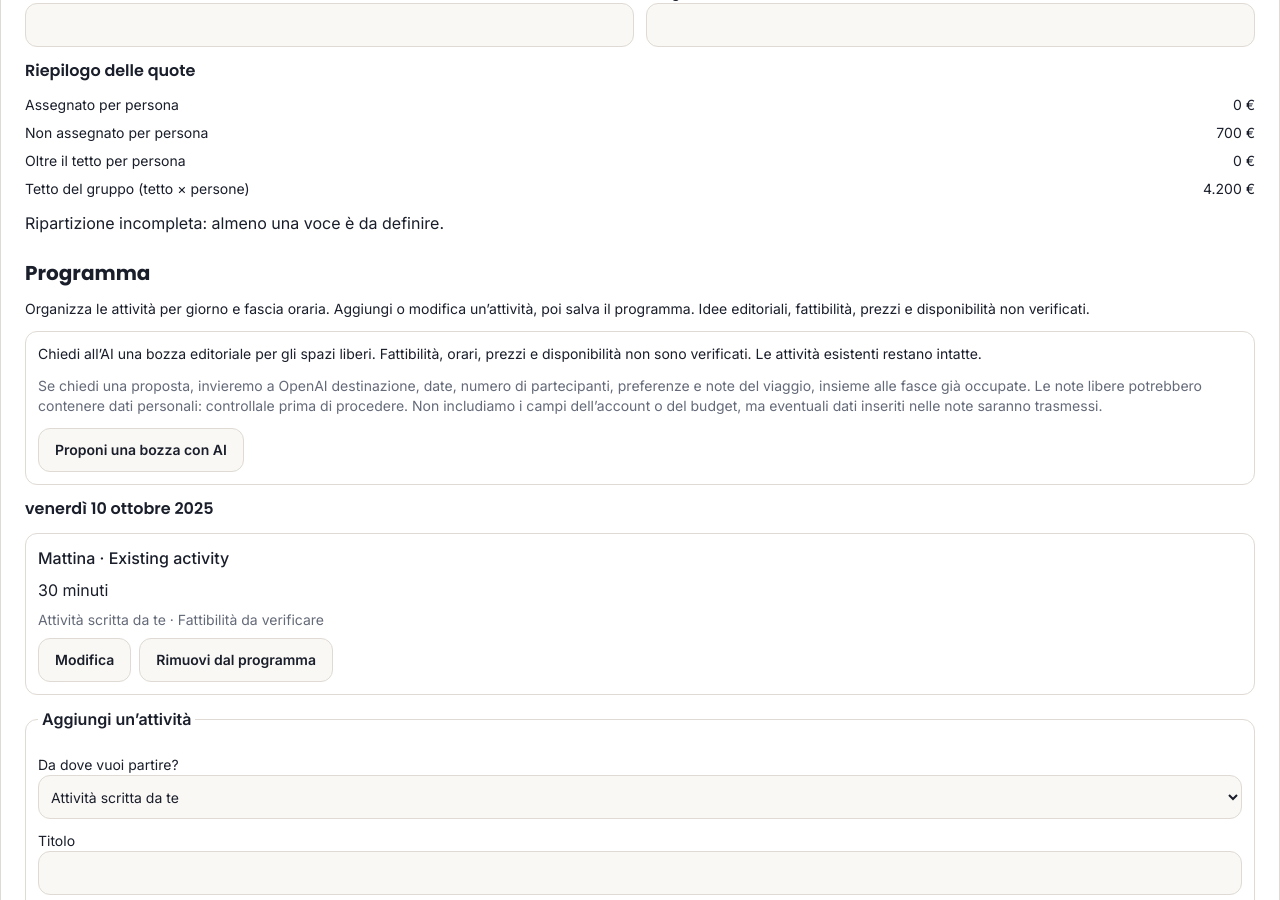
Test: Trip Hub budget/program › reviews AI ideas, confirms into unsaved changes and only persists on explicit save
(page scrolled)
Click the button "Proponi una bozza con AI": (141, 450) [38,428,244,472]
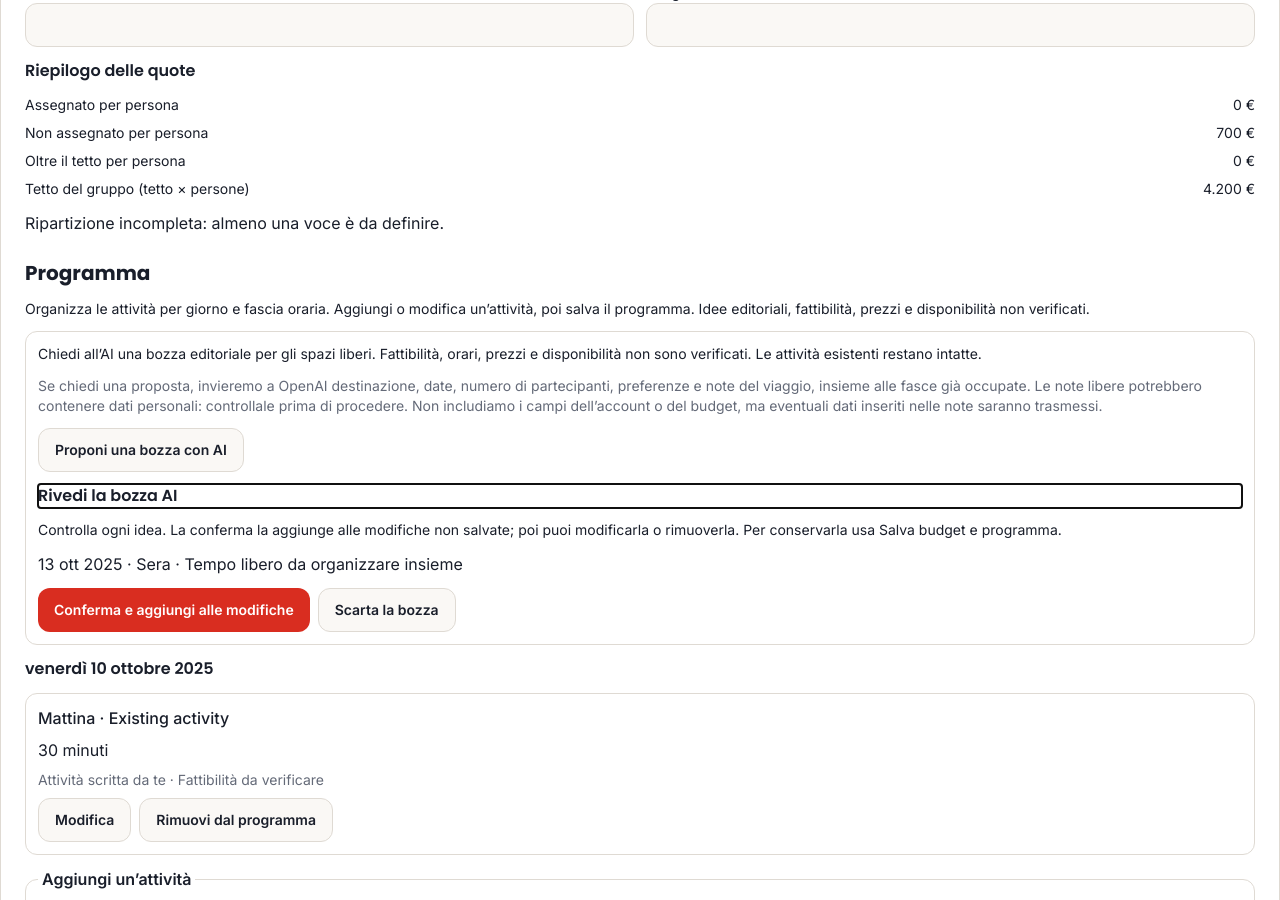
Expected: the heading "Rivedi la bozza AI" is shown, [38,484,178,507]
Click the button "Conferma e aggiungi alle modifiche": (174, 610) [38,588,310,632]
(page scrolled)
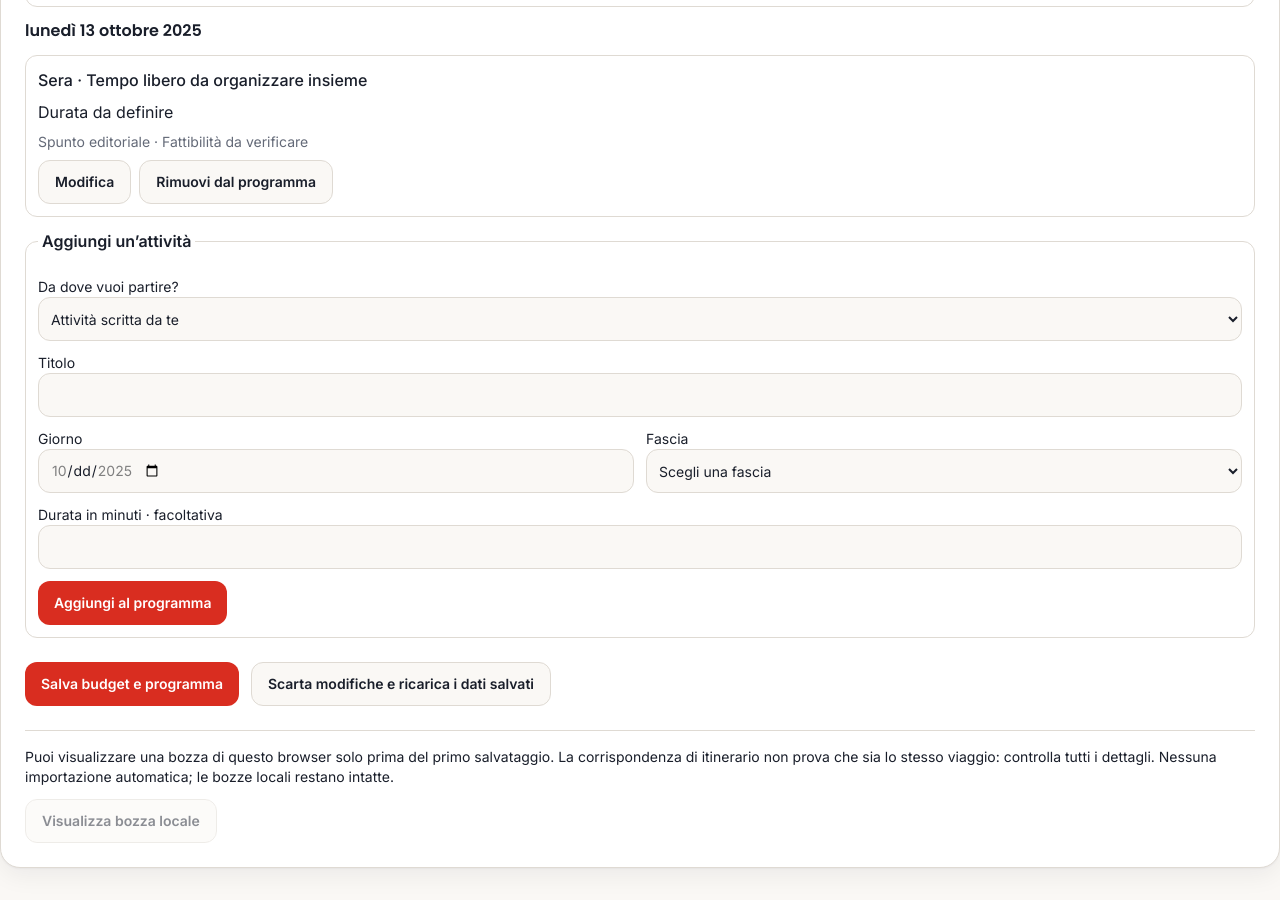
Expected: the button "Salva budget e programma" is enabled
Click the button "Salva budget e programma": (132, 684) [25,662,239,706]
(page scrolled)
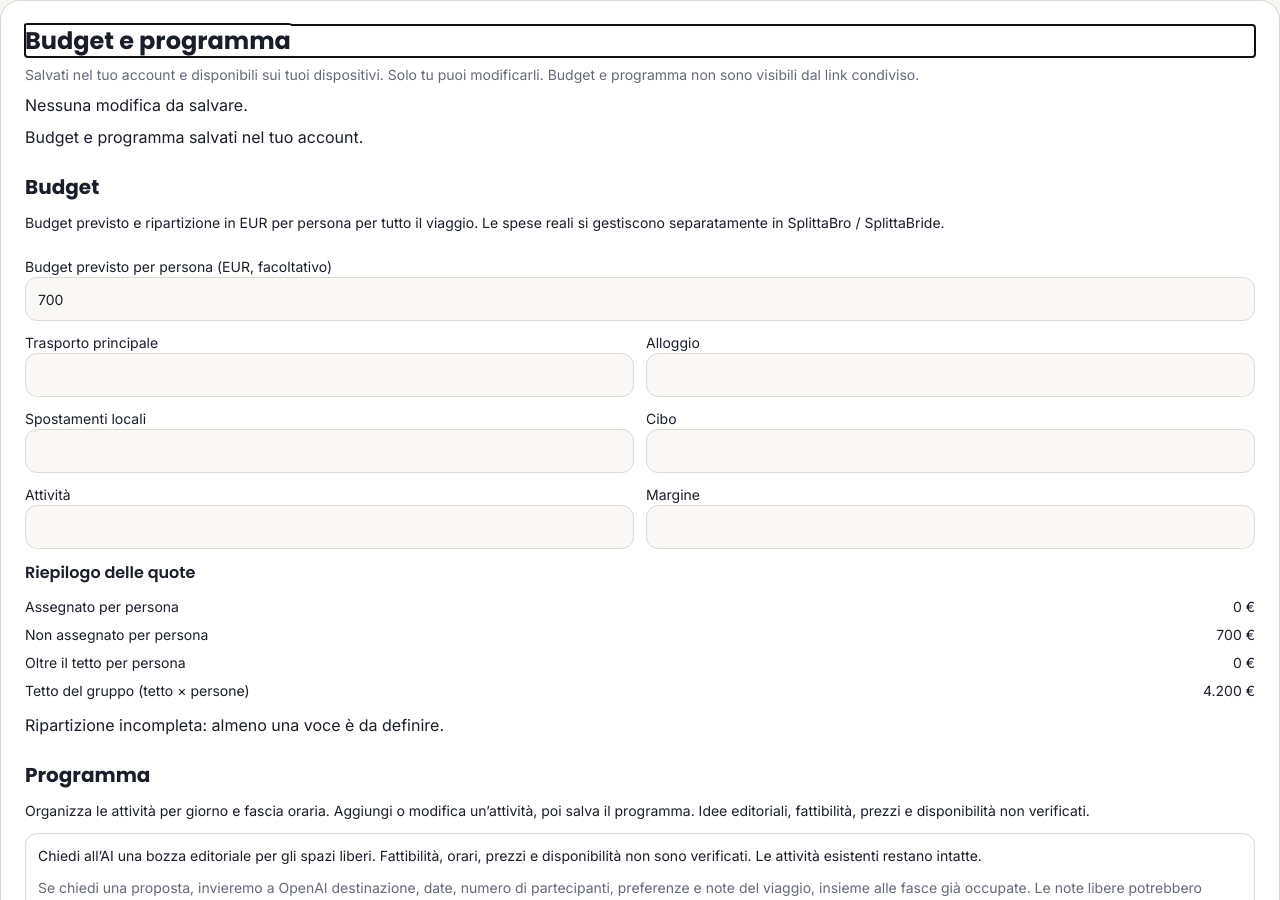
Expected: the text "Budget e programma salvati nel tuo account." is shown, [25,127,363,147]
